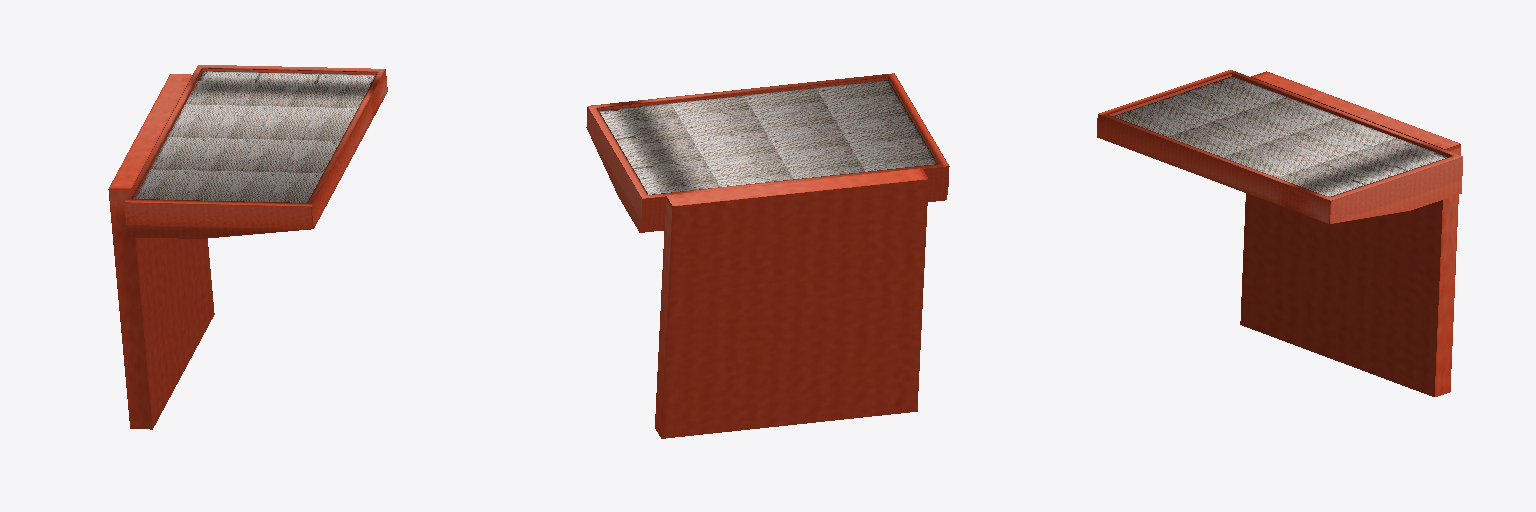
3 views of the same model, side by side, from view 1: azimuth 30°, elevation 25°; view 2: azimuth 150°, elevation 25°; view 3: azimuth 270°, elevation 25° (orthographic).
Size of the model in its own units: 3.56 by 2.84 by 3.61.
1 materials, 1 textured.